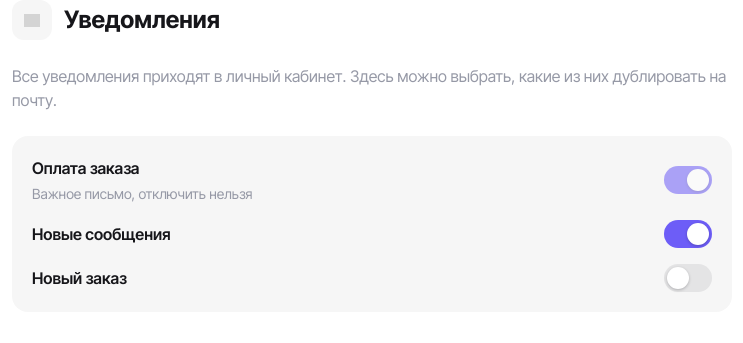
Test: NotificationsSettingsScreen › shows an error when saving fails
Click the switch named "Письма: Новый заказ" at (688, 278), box [664,264,712,292]
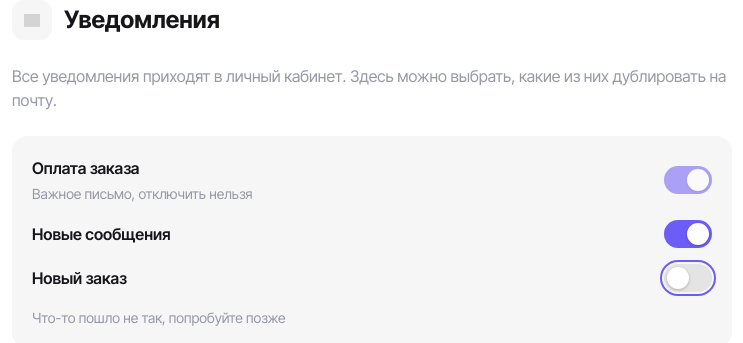
Check: the text "Что-то пошло не так, попробуйте позже" is shown, box [32,309,286,326]
